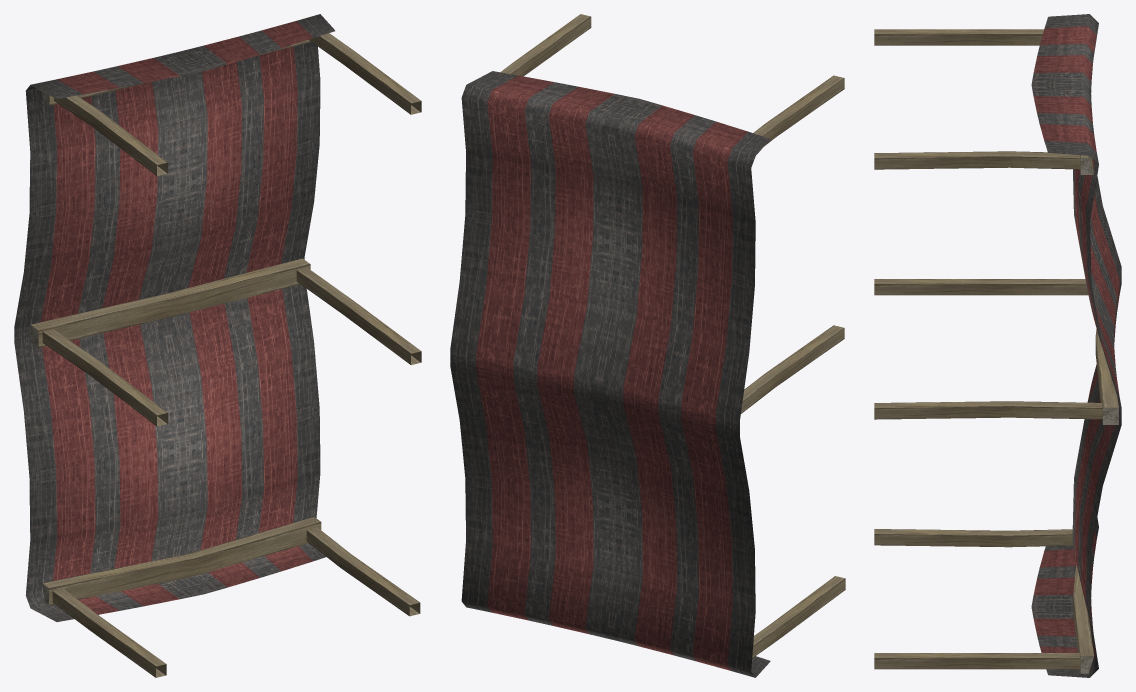
The model's file is Merchant_Tent_Type_02_C.fbx.
The picture shows the model from 3 angles, left to right: view 1: azimuth 30°, elevation 25°; view 2: azimuth 150°, elevation 25°; view 3: azimuth 270°, elevation 25°; orthographic projection.
Parts seen in each view (by area): view 1: Merchant_Tent_Type_02_C; view 2: Merchant_Tent_Type_02_C; view 3: Merchant_Tent_Type_02_C.
Boxes of the visible parts, bbox=[...] form: Merchant_Tent_Type_02_C: bbox=[14, 14, 421, 677]; Merchant_Tent_Type_02_C: bbox=[450, 14, 845, 677]; Merchant_Tent_Type_02_C: bbox=[874, 14, 1121, 677].
Size of the model in its own units: 5.26 by 9.08 by 3.89.
